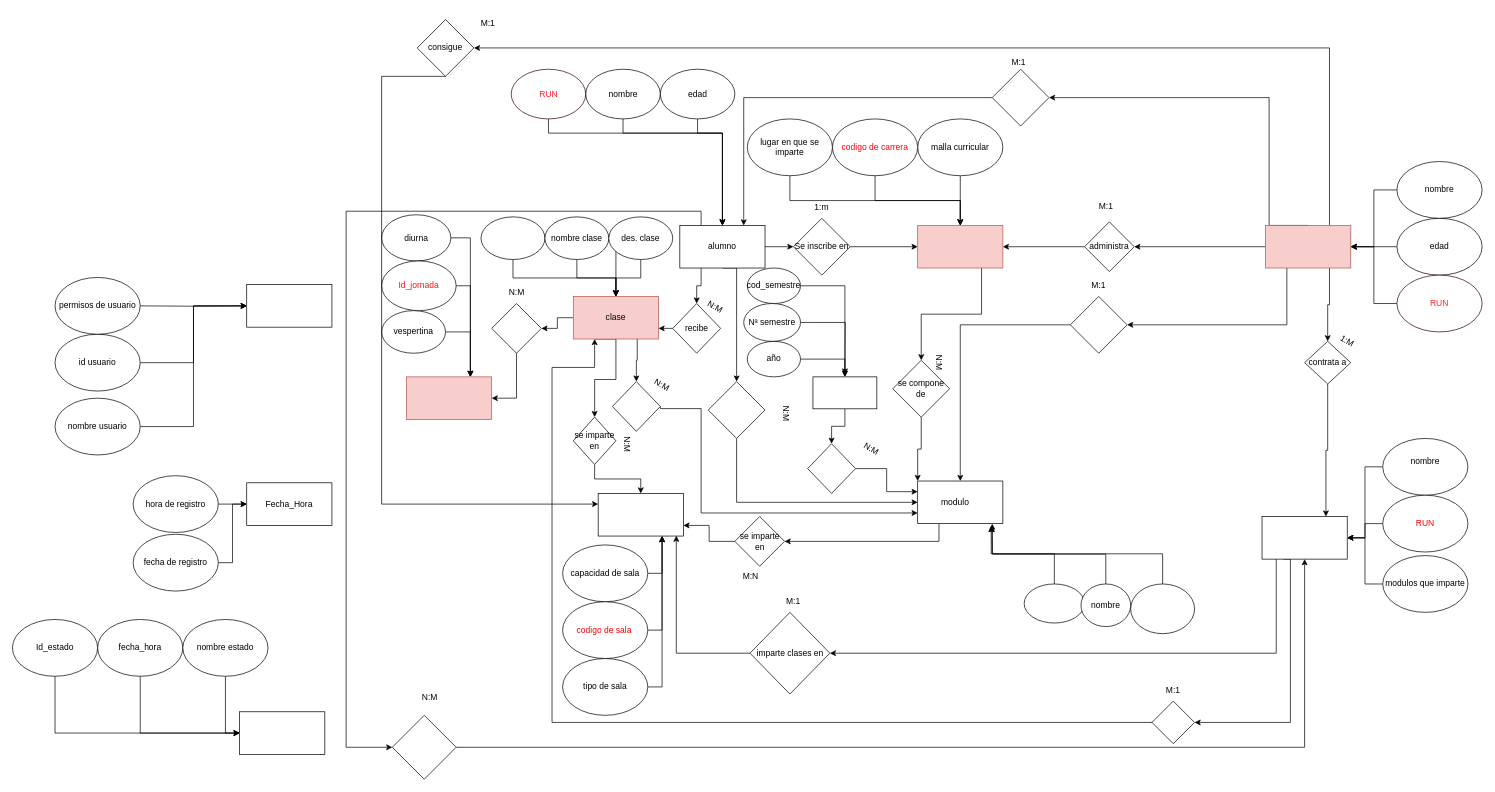
Image size: 1495x792. Some labels were removed from this diagram. Here are the shapes that lost their labels. From the top down, the centre of each, then its label:
pixel 1020 97: orienta
pixel 512 238: Id_clase
pixel 960 246: carrera
pixel 1308 246: jefe de carrera
pixel 289 305: Usuario
pixel 1098 324: inscribe alumnos
pixel 516 328: se imparte durante:
pixel 449 397: Jornada
pixel 636 406: es parte de
pixel 736 409: esta inscrito en
pixel 844 392: semestre
pixel 831 468: dividido en
pixel 640 514: Sala
pixel 1304 537: docente
pixel 1054 603: Codigo de modulo
pixel 1162 608: cant horas
pixel 282 732: Estado
pixel 1173 722: imparte
pixel 424 747: recibe clases de
